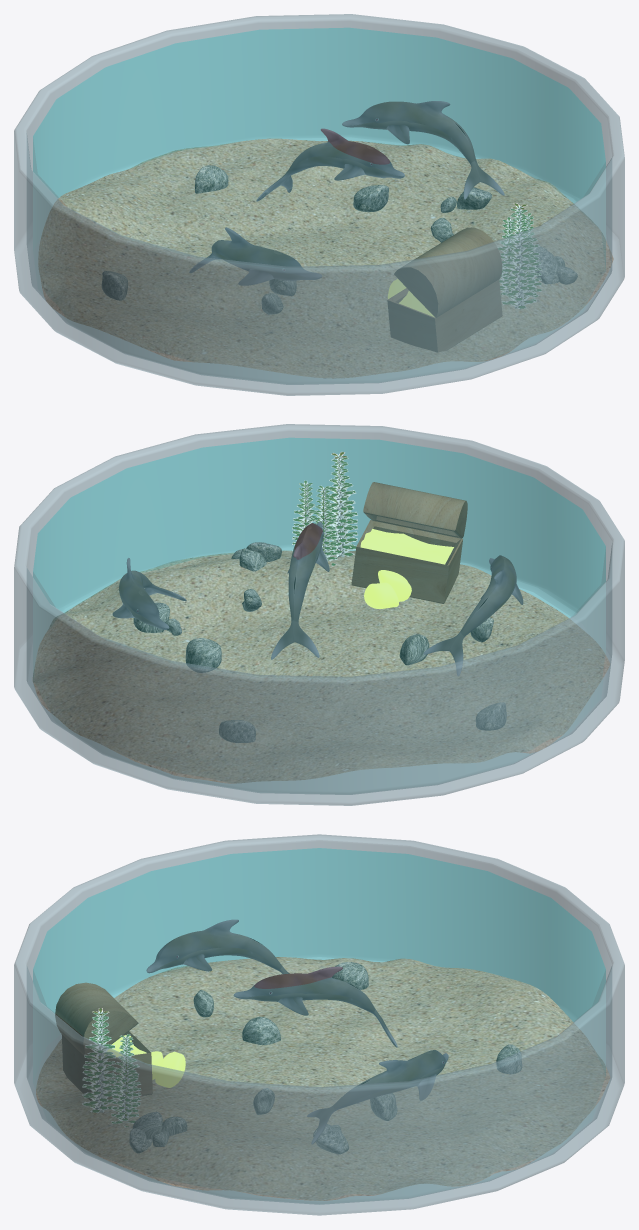
File: dolphin_aquarium.glb
The picture shows the model from 3 angles, top to bottom: view 1: azimuth 30°, elevation 25°; view 2: azimuth 150°, elevation 25°; view 3: azimuth 270°, elevation 25°; orthographic projection.
Visible parts, largest first — view 1: tank, water, sandpebbles, treasureChest, pCube18, dolphin, dolphin_blockout_07:pCube5, pCube13, pCube12, pCube10, pCube14, pCube6; view 2: tank, water, sandpebbles, treasureChest, dolphin, dolphin_blockout_07:pCube5, pCube18, pCube23, pCube13, pCube19, pCube12, pCube16 (+2 smaller); view 3: tank, water, sandpebbles, treasureChest, dolphin, dolphin_blockout_07:pCube5, pCube18, pCube16, pCube19, pCube10, pCube14, pCube12 (+2 smaller).
Boxes of the visible parts, x1,y1,x2,y2 form: tank: (14, 14, 624, 395); water: (33, 28, 605, 266); sandpebbles: (38, 138, 613, 378); treasureChest: (387, 227, 502, 352); pCube18: (342, 101, 504, 199); dolphin: (256, 128, 404, 201); dolphin_blockout_07:pCube5: (189, 227, 321, 285); pCube13: (353, 185, 388, 212); pCube12: (195, 165, 228, 193); pCube10: (102, 271, 127, 300); pCube14: (457, 187, 491, 209); pCube6: (535, 251, 558, 283); tank: (14, 424, 624, 805); water: (33, 438, 605, 677); sandpebbles: (33, 550, 609, 783); treasureChest: (351, 482, 467, 603); dolphin: (271, 521, 329, 659); dolphin_blockout_07:pCube5: (423, 555, 523, 675); pCube18: (112, 558, 186, 629); pCube23: (360, 529, 453, 564); pCube13: (185, 638, 221, 672); pCube19: (364, 582, 398, 608); pCube12: (219, 720, 255, 742); pCube16: (399, 634, 429, 665); tank: (14, 834, 624, 1215); water: (33, 848, 605, 1086); sandpebbles: (36, 957, 610, 1200); treasureChest: (55, 982, 152, 1100); dolphin: (233, 966, 397, 1047); dolphin_blockout_07:pCube5: (146, 919, 289, 974); pCube18: (307, 1050, 448, 1144); pCube16: (242, 1016, 280, 1045); pCube19: (155, 1051, 185, 1087); pCube10: (332, 962, 368, 989); pCube14: (313, 1124, 348, 1153); pCube12: (496, 1044, 521, 1073).
Bounding box in the file's own units: 228 × 53.27 × 228.
11 materials, 8 textured.
